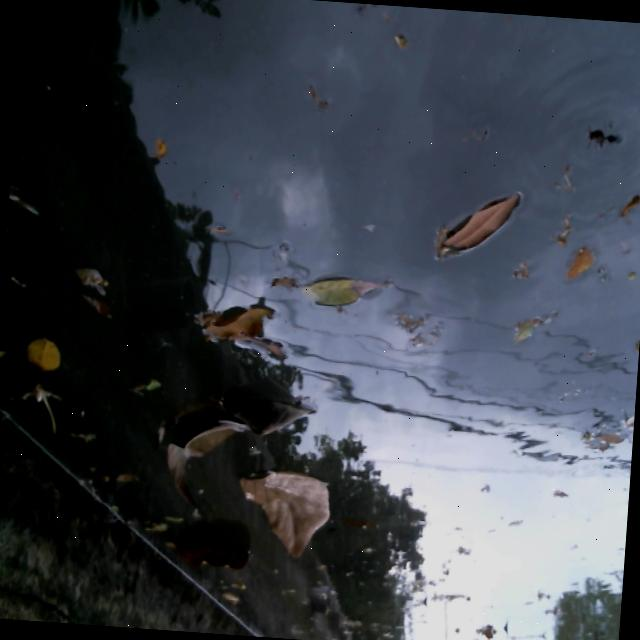Big-leaf: (148, 374, 320, 496), (229, 458, 340, 556), (178, 279, 280, 351), (163, 530, 243, 581)
Small-leaf: (429, 172, 527, 280), (290, 257, 391, 319), (62, 248, 123, 325), (507, 289, 571, 356), (555, 233, 610, 294), (12, 325, 63, 384), (607, 169, 640, 230)
